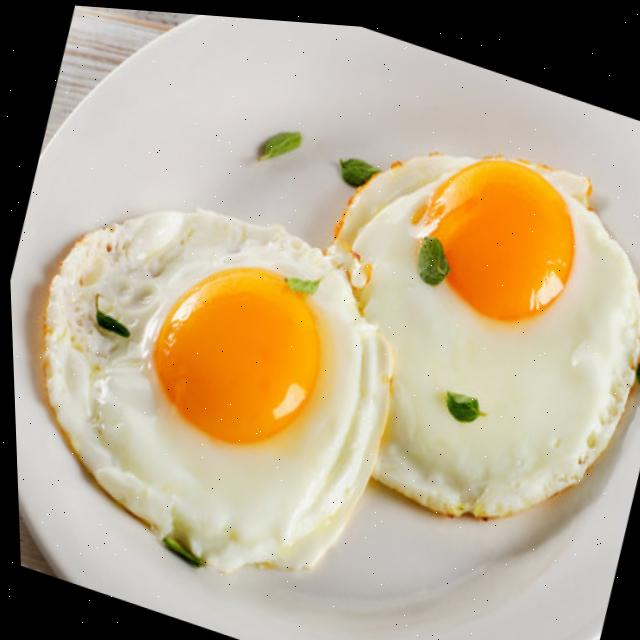Egg: (42, 207, 390, 568), (333, 146, 639, 509), (334, 150, 639, 509)
